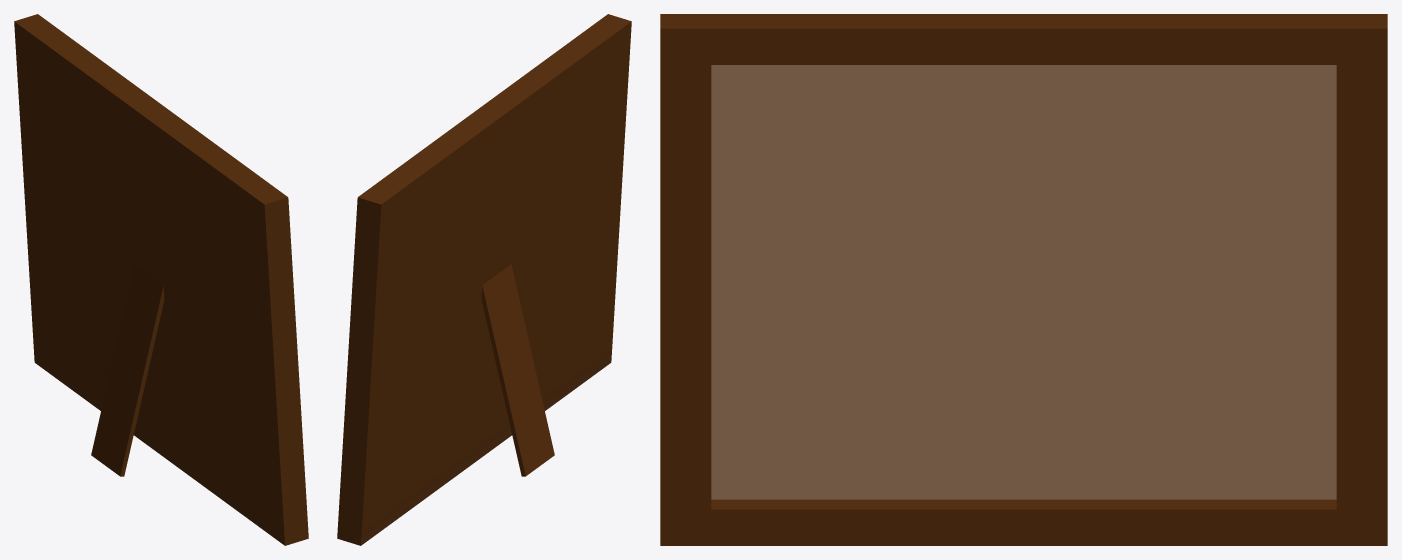
File: ramka.fbx
3 renders of one model, left to right at view 1: azimuth 30°, elevation 25°; view 2: azimuth 150°, elevation 25°; view 3: azimuth 270°, elevation 25°, orthographic. The views are drawn at different scales.
Visible parts, largest first — view 1: ramka4; view 2: ramka4; view 3: ramka4.
Boxes of the visible parts, x1,y1,x2,y2 form: ramka4: (14,14,308,545); ramka4: (337,14,631,545); ramka4: (660,14,1387,545).
Size of the model in its own units: 313 by 56.2 by 240.
